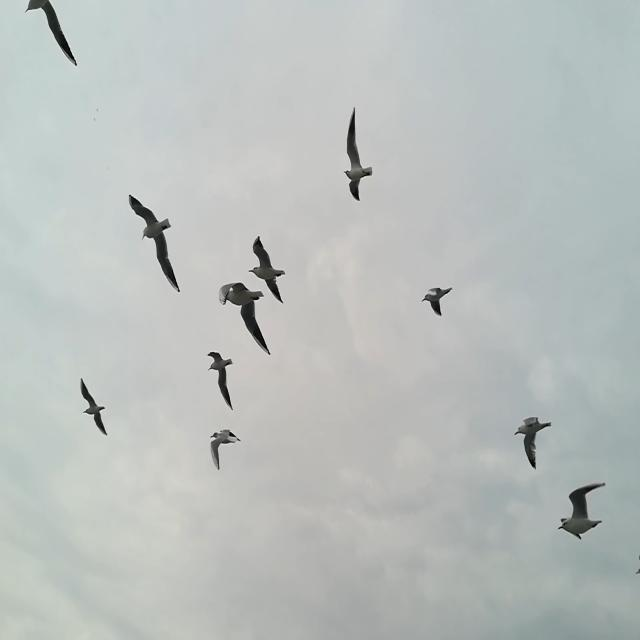bird: (129, 194, 181, 294), (218, 280, 270, 356), (25, 0, 77, 65), (342, 106, 373, 202), (558, 482, 606, 540), (249, 235, 287, 302), (514, 414, 555, 469), (80, 377, 110, 437), (208, 352, 235, 411), (210, 430, 242, 470), (420, 285, 452, 317), (636, 554, 640, 576)
